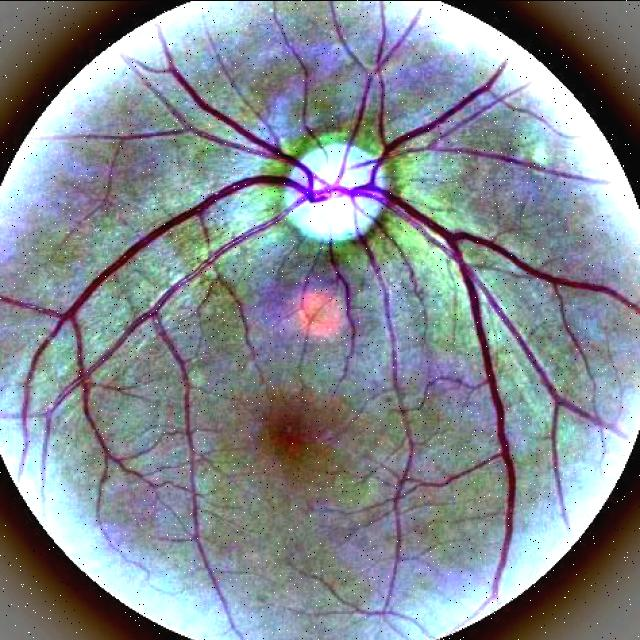Macula: (243, 362, 344, 479)
Nerves: (356, 182, 640, 472), (105, 62, 343, 272)
Optic Disk: (272, 120, 403, 253)
